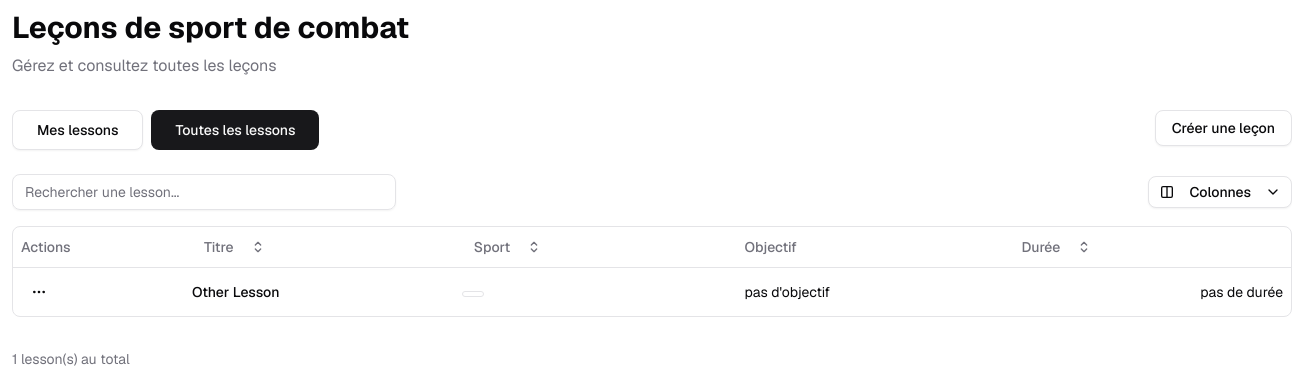
Test: LessonsUserPage › should filter lessons to show only user's lessons when 'mine' filter is active
This screenshot has width=1304, height=383.
Click the button "Mes lessons" at (78, 130), box x1=12 y1=110 x2=143 y2=150
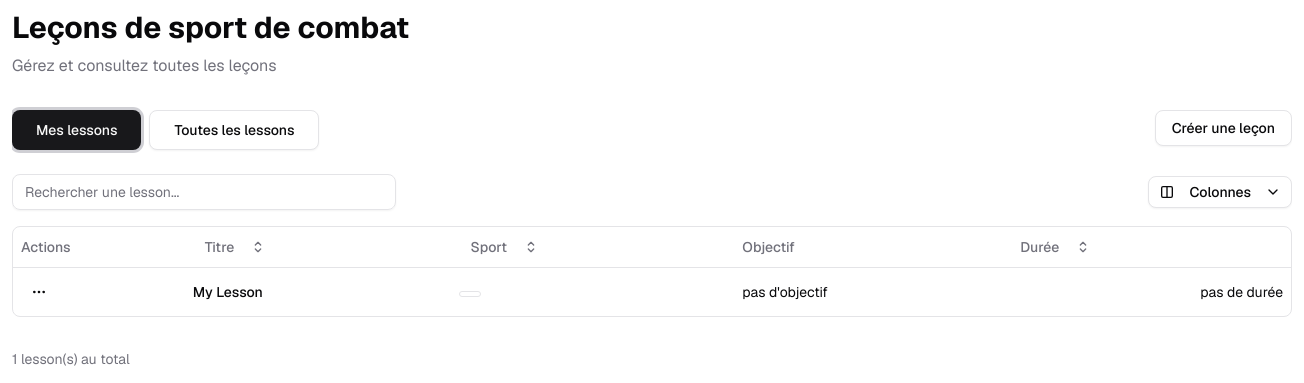
Expected: the text "My Lesson" is shown, x1=193 y1=282 x2=263 y2=300
Expected: the text "Other Lesson" is gone
